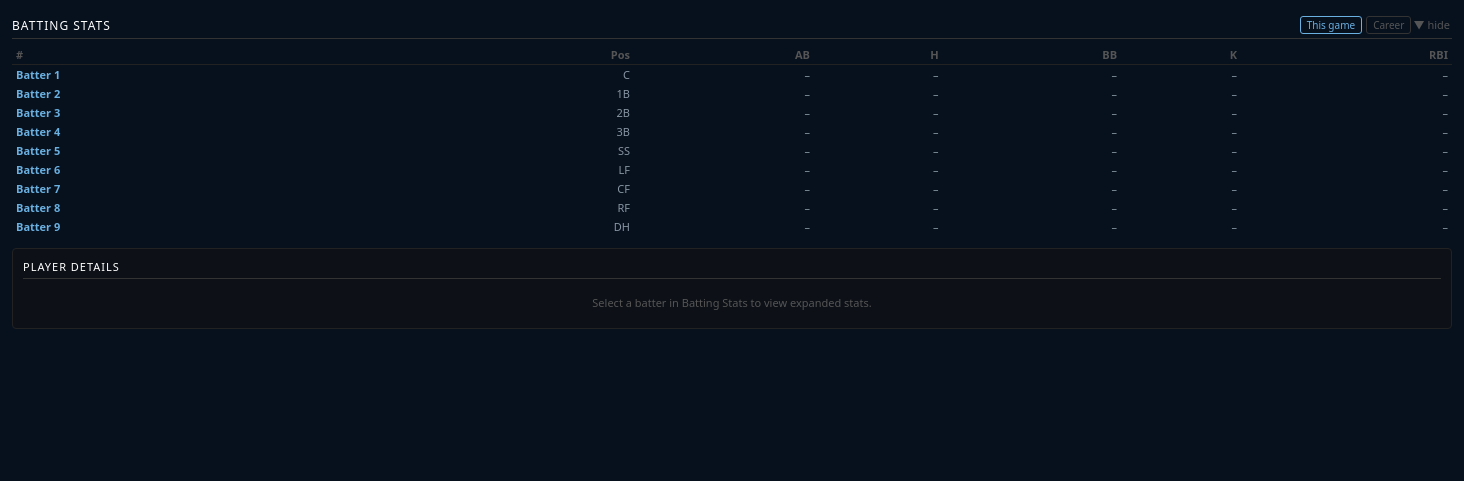
Test: PlayerStatsPanel › shows position in Player Details SubLabel when a batter is selected
Click the row with test id "batter-row-1" at (38, 74), box [12,64,1452,84]
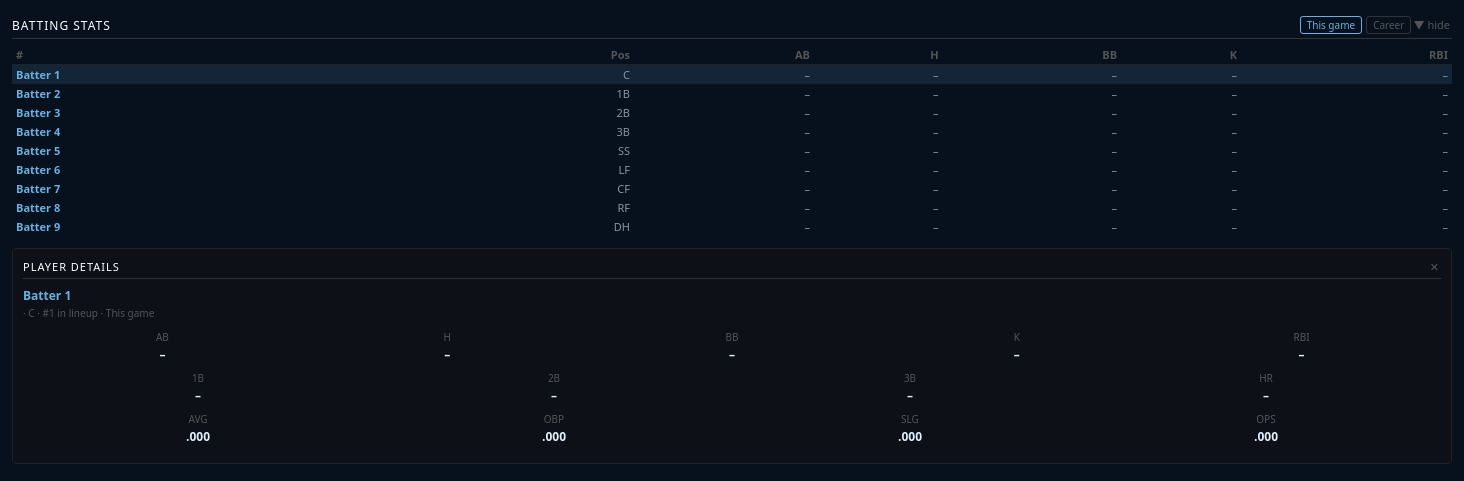
Result: the text "· C · #1 in lineup · This game" is shown at [23,306,154,320]
